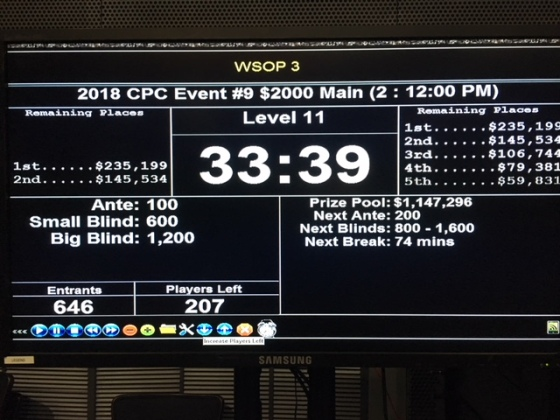PlayersLeft: (133, 280, 282, 316)
Remaining: (8, 106, 174, 197), (397, 105, 560, 195)
TournamentClock: (6, 82, 560, 317)
